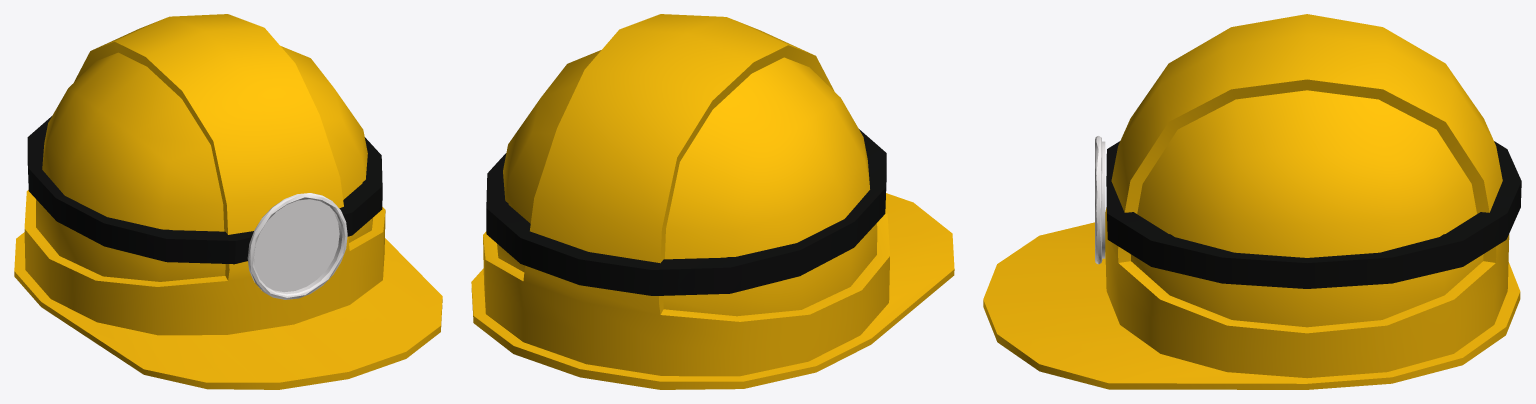
Rendered from Capacete.fbx.
3 views of the same model, side by side, from view 1: azimuth 30°, elevation 25°; view 2: azimuth 150°, elevation 25°; view 3: azimuth 270°, elevation 25° (orthographic). The views are drawn at different scales.
Parts seen in each view (by area): view 1: Capacete; view 2: Capacete; view 3: Capacete.
Part boxes in pixels (x1,y1,x2,y2): Capacete: (14,14,442,389); Capacete: (471,14,954,389); Capacete: (983,14,1521,389).
Bounding box in the file's own units: 283 × 200 × 358.
Materials: 1 (1 with a texture image).
